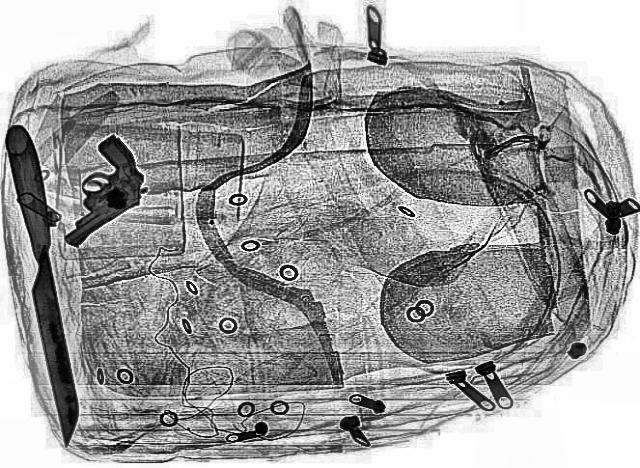Gun: (8, 133, 178, 249)
Knife: (1, 122, 85, 446)
